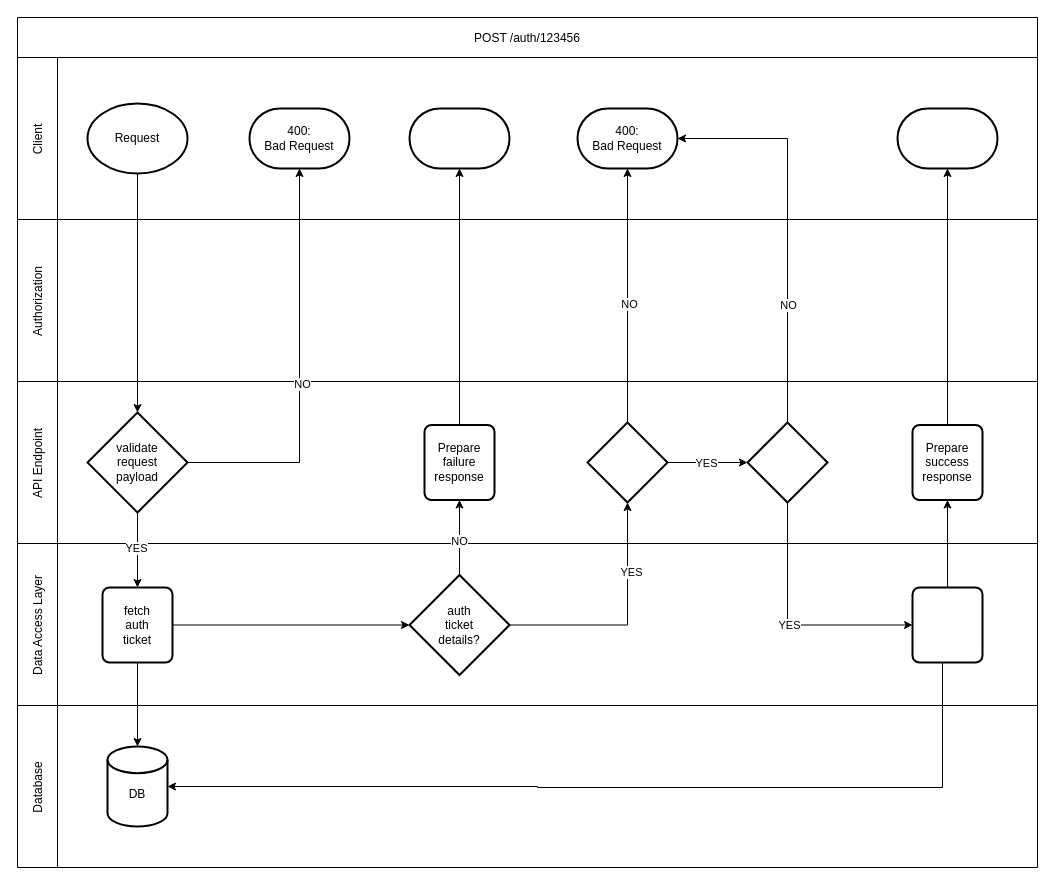
The diagram is 1055 pixels wide and 885 high, and some of its shapes have lost their labels. The shapes that lost their labels are listed below. From the top down, each one's centre as x and y in pixels, then its label:
At [459,138]: "404: Not Found".
At [947,138]: "201: Created".
At [627,462]: "geo credential?".
At [787,462]: "correct otp?".
At [947,624]: "delete auth ticket".
